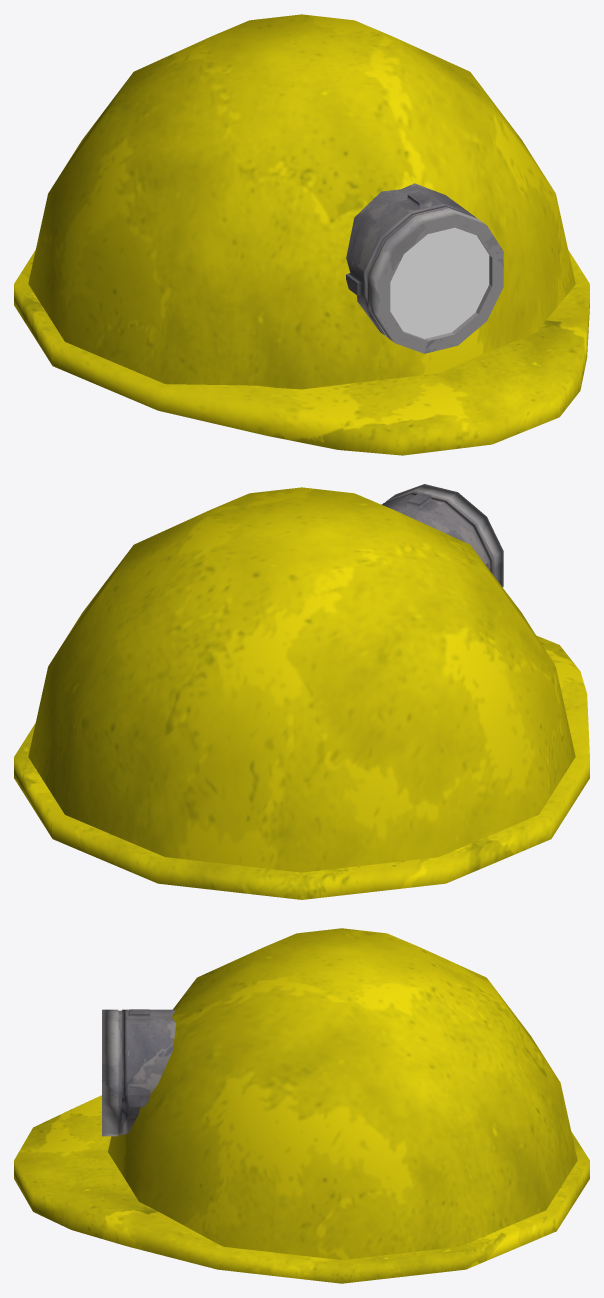
The model's file is Helmet.fbx.
3 renders of one model, top to bottom at view 1: azimuth 30°, elevation 25°; view 2: azimuth 150°, elevation 25°; view 3: azimuth 270°, elevation 25°, orthographic. The views are drawn at different scales.
Visible parts, largest first — view 1: polySurface1; view 2: polySurface1; view 3: polySurface1.
Part boxes in pixels (x1=…): polySurface1: x1=14, y1=14, x2=589, y2=455; polySurface1: x1=14, y1=484, x2=589, y2=899; polySurface1: x1=14, y1=928, x2=589, y2=1283.
Bounding box in the file's own units: 4.44 × 2.17 × 5.16.
1 material, 1 textured.
